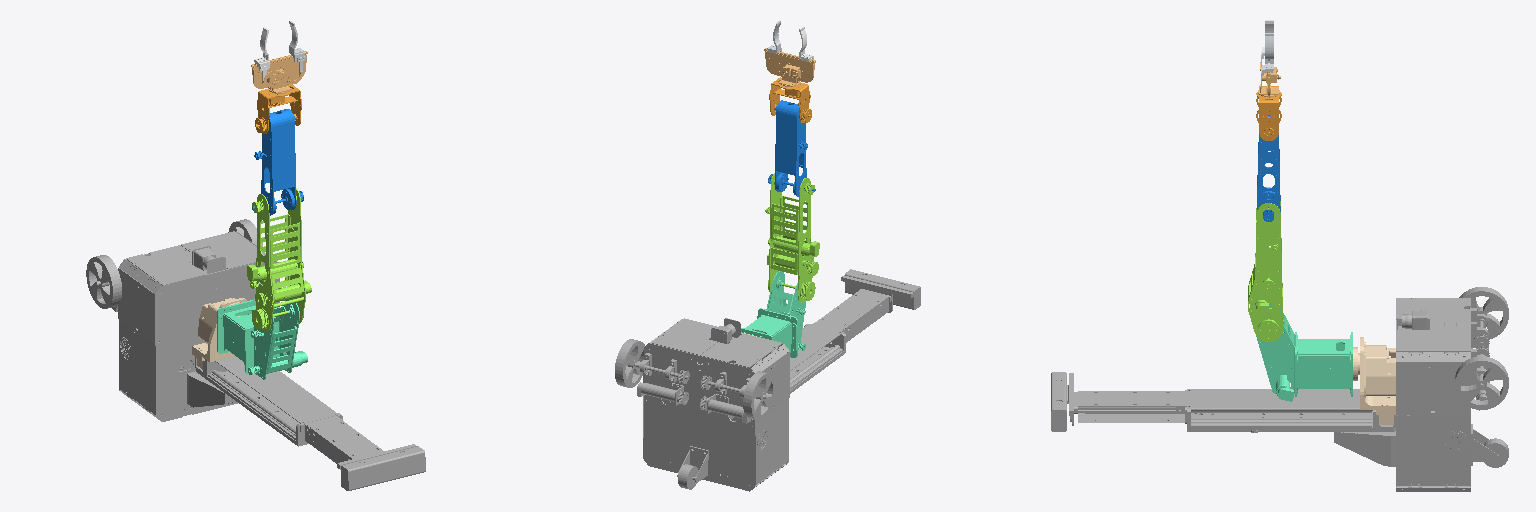
robot.urdf — XM:
<?xml version="1.0" ?>
<robot
  name="XM">
  <link
    name="base_link">
    <inertial>
      <origin
        xyz="-0.0018926 -0.038457 -0.021634"
        rpy="0 0 0" />
      <mass
        value="20.64" />
      <inertia
        ixx="2.1701"
        ixy="-0.0041401"
        ixz="-0.00026473"
        iyy="0.43845"
        iyz="0.12519"
        izz="2.1677" />
    </inertial>
    <visual>
      <origin
        xyz="0 0 0"
        rpy="0 0 0" />
      <geometry>
        <mesh
          filename="package://XM/meshes/base_link.STL" />
      </geometry>
      <material
        name="">
        <color
          rgba="0.75294 0.75294 0.75294 1" />
      </material>
    </visual>
    <collision>
      <origin
        xyz="0 0 0"
        rpy="0 0 0" />
      <geometry>
        <mesh
          filename="package://XM/meshes/base_link.STL" />
      </geometry>
    </collision>
  </link>
  <link
    name="lifting_Link">
    <inertial>
      <origin
        xyz="-2.034E-10 -0.044467 0.074678"
        rpy="0 0 0" />
      <mass
        value="4.139" />
      <inertia
        ixx="0.023514"
        ixy="-2.476E-11"
        ixz="-6.8567E-11"
        iyy="0.020683"
        iyz="-0.0074192"
        izz="0.017083" />
    </inertial>
    <visual>
      <origin
        xyz="0 0 0"
        rpy="0 0 0" />
      <geometry>
        <mesh
          filename="package://XM/meshes/lifting_Link.STL" />
      </geometry>
      <material
        name="">
        <color
          rgba="1 0.91765 0.8 1" />
      </material>
    </visual>
    <collision>
      <origin
        xyz="0 0 0"
        rpy="0 0 0" />
      <geometry>
        <mesh
          filename="package://XM/meshes/lifting_Link.STL" />
      </geometry>
    </collision>
  </link>
  <joint
    name="joint_lifting"
    type="prismatic">
    <origin
      xyz="0.00028281 -0.25402 -0.043734"
      rpy="3.6317E-26 -0.0064665 3.904E-40" />
    <parent
      link="base_link" />
    <child
      link="lifting_Link" />
    <axis
      xyz="0 1 0" />
    <limit
      lower="0.05"
      upper="0.45"
      effort="0"
      velocity="0" />
  </joint>
  <link
    name="waist_Link">
    <inertial>
      <origin
        xyz="0.0020934 -0.02078 0.0092904"
        rpy="0 0 0" />
      <mass
        value="1.8049" />
      <inertia
        ixx="0.015768"
        ixy="-0.0002136"
        ixz="-0.00036488"
        iyy="0.0079986"
        iyz="-0.0018608"
        izz="0.014015" />
    </inertial>
    <visual>
      <origin
        xyz="0 0 0"
        rpy="0 0 0" />
      <geometry>
        <mesh
          filename="package://XM/meshes/waist_Link.STL" />
      </geometry>
      <material
        name="">
        <color
          rgba="0.5 1 0.8 1" />
      </material>
    </visual>
    <collision>
      <origin
        xyz="0 0 0"
        rpy="0 0 0" />
      <geometry>
        <mesh
          filename="package://XM/meshes/waist_Link.STL" />
      </geometry>
    </collision>
  </link>
  <joint
    name="joint_waist"
    type="revolute">
    <origin
      xyz="0 -0.2218 0.136"
      rpy="-2.8496E-16 -1.075E-14 7.3949E-16" />
    <parent
      link="lifting_Link" />
    <child
      link="waist_Link" />
    <axis
      xyz="0 1 0" />
    <limit
      lower="-1.57"
      upper="1.57"
      effort="0"
      velocity="0" />
  </joint>
  <link
    name="big_arm_Link">
    <inertial>
      <origin
        xyz="0.00048507 -0.0037941 0.12763"
        rpy="0 0 0" />
      <mass
        value="1.3414" />
      <inertia
        ixx="0.014476"
        ixy="1.4256E-05"
        ixz="-8.8774E-05"
        iyy="0.017027"
        iyz="0.00033307"
        izz="0.0040217" />
    </inertial>
    <visual>
      <origin
        xyz="0 0 0"
        rpy="0 0 0" />
      <geometry>
        <mesh
          filename="package://XM/meshes/big_arm_Link.STL" />
      </geometry>
      <material
        name="">
        <color
          rgba="0.7 1 0.4 1" />
      </material>
    </visual>
    <collision>
      <origin
        xyz="0 0 0"
        rpy="0 0 0" />
      <geometry>
        <mesh
          filename="package://XM/meshes/big_arm_Link.STL" />
      </geometry>
    </collision>
  </link>
  <joint
    name="joinr_big_arm"
    type="revolute">
    <origin
      xyz="0 -0.12547 0.13033"
      rpy="0 7.9736E-15 4.2111E-33" />
    <parent
      link="waist_Link" />
    <child
      link="big_arm_Link" />
    <axis
      xyz="1 0 0" />
    <limit
      lower="-1.57"
      upper="1.57"
      effort="0"
      velocity="0" />
  </joint>
  <link
    name="fore_arm_Link">
    <inertial>
      <origin
        xyz="0.00031488 0.00077015 0.082927"
        rpy="0 0 0" />
      <mass
        value="0.66536" />
      <inertia
        ixx="0.0062497"
        ixy="-1.6576E-05"
        ixz="-0.00025384"
        iyy="0.0069348"
        iyz="4.5771E-05"
        izz="0.0010978" />
    </inertial>
    <visual>
      <origin
        xyz="0 0 0"
        rpy="0 0 0" />
      <geometry>
        <mesh
          filename="package://XM/meshes/fore_arm_Link.STL" />
      </geometry>
      <material
        name="">
        <color
          rgba="0.2 0.61961 1 1" />
      </material>
    </visual>
    <collision>
      <origin
        xyz="0 0 0"
        rpy="0 0 0" />
      <geometry>
        <mesh
          filename="package://XM/meshes/fore_arm_Link.STL" />
      </geometry>
    </collision>
  </link>
  <joint
    name="joint_fore_arm"
    type="revolute">
    <origin
      xyz="0 0 0.35"
      rpy="0 1.2212E-15 -4.2209E-32" />
    <parent
      link="big_arm_Link" />
    <child
      link="fore_arm_Link" />
    <axis
      xyz="-1 0 0" />
    <limit
      lower="-1.57"
      upper="1.57"
      effort="0"
      velocity="0" />
  </joint>
  <link
    name="wrist_Link">
    <inertial>
      <origin
        xyz="-0.0016964 -1.8874E-15 0.03193"
        rpy="0 0 0" />
      <mass
        value="0.21596" />
      <inertia
        ixx="0.00030788"
        ixy="7.5664E-18"
        ixz="8.084E-06"
        iyy="0.00068067"
        iyz="1.728E-17"
        izz="0.00041975" />
    </inertial>
    <visual>
      <origin
        xyz="0 0 0"
        rpy="0 0 0" />
      <geometry>
        <mesh
          filename="package://XM/meshes/wrist_Link.STL" />
      </geometry>
      <material
        name="">
        <color
          rgba="1 0.7 0.3 1" />
      </material>
    </visual>
    <collision>
      <origin
        xyz="0 0 0"
        rpy="0 0 0" />
      <geometry>
        <mesh
          filename="package://XM/meshes/wrist_Link.STL" />
      </geometry>
    </collision>
  </link>
  <joint
    name="joint_wrist"
    type="revolute">
    <origin
      xyz="0 0.0010002 0.25"
      rpy="0 0 -4.2209E-32" />
    <parent
      link="fore_arm_Link" />
    <child
      link="wrist_Link" />
    <axis
      xyz="1 0 0" />
    <limit
      lower="-1.57"
      upper="1.57"
      effort="0"
      velocity="0" />
  </joint>
  <link
    name="fore_joint_Link">
    <inertial>
      <origin
        xyz="-0.0037211 0.00074906 0.046928"
        rpy="0 0 0" />
      <mass
        value="0.36527" />
      <inertia
        ixx="0.00032887"
        ixy="-7.465E-06"
        ixz="-1.0886E-05"
        iyy="0.00072728"
        iyz="8.5383E-07"
        izz="0.0004828" />
    </inertial>
    <visual>
      <origin
        xyz="0 0 0"
        rpy="0 0 0" />
      <geometry>
        <mesh
          filename="package://XM/meshes/fore_joint_Link.STL" />
      </geometry>
      <material
        name="">
        <color
          rgba="1 0.8 0.54902 1" />
      </material>
    </visual>
    <collision>
      <origin
        xyz="0 0 0"
        rpy="0 0 0" />
      <geometry>
        <mesh
          filename="package://XM/meshes/fore_joint_Link.STL" />
      </geometry>
    </collision>
  </link>
  <joint
    name="fore_joint"
    type="revolute">
    <origin
      xyz="0.0044 0 0.093"
      rpy="0 -1.1102E-15 3.5848E-32" />
    <parent
      link="wrist_Link" />
    <child
      link="fore_joint_Link" />
    <axis
      xyz="0 0 1" />
    <limit
      lower="-1.57"
      upper="1.57"
      effort="0"
      velocity="0" />
  </joint>
  <link
    name="right_finger_Link">
    <inertial>
      <origin
        xyz="0.009058 -0.0045005 0.0073292"
        rpy="0 0 0" />
      <mass
        value="0.030707" />
      <inertia
        ixx="4.538E-05"
        ixy="-8.9082E-07"
        ixz="-5.2065E-06"
        iyy="4.4551E-05"
        iyz="6.4561E-06"
        izz="5.8119E-06" />
    </inertial>
    <visual>
      <origin
        xyz="0 0 0"
        rpy="0 0 0" />
      <geometry>
        <mesh
          filename="package://XM/meshes/right_finger_Link.STL" />
      </geometry>
      <material
        name="">
        <color
          rgba="0.89804 0.91765 0.92941 1" />
      </material>
    </visual>
    <collision>
      <origin
        xyz="0 0 0"
        rpy="0 0 0" />
      <geometry>
        <mesh
          filename="package://XM/meshes/right_finger_Link.STL" />
      </geometry>
    </collision>
  </link>
  <joint
    name="joint_right_finger"
    type="prismatic">
    <origin
      xyz="0.044912 -0.0015 0.11"
      rpy="2.8496E-16 -8.0846E-15 -6.3892E-16" />
    <parent
      link="fore_joint_Link" />
    <child
      link="right_finger_Link" />
    <axis
      xyz="-1 0 0" />
    <limit
      lower="-0.045"
      upper="0"
      effort="0"
      velocity="0" />
  </joint>
  <link
    name="left_finger_Link">
    <inertial>
      <origin
        xyz="-0.009058 -0.0045008 0.0073292"
        rpy="0 0 0" />
      <mass
        value="0.030707" />
      <inertia
        ixx="4.538E-05"
        ixy="8.9056E-07"
        ixz="5.2065E-06"
        iyy="4.4551E-05"
        iyz="6.456E-06"
        izz="5.8118E-06" />
    </inertial>
    <visual>
      <origin
        xyz="0 0 0"
        rpy="0 0 0" />
      <geometry>
        <mesh
          filename="package://XM/meshes/left_finger_Link.STL" />
      </geometry>
      <material
        name="">
        <color
          rgba="1 1 1 1" />
      </material>
    </visual>
    <collision>
      <origin
        xyz="0 0 0"
        rpy="0 0 0" />
      <geometry>
        <mesh
          filename="package://XM/meshes/left_finger_Link.STL" />
      </geometry>
    </collision>
  </link>
  <joint
    name="joint_left_finger"
    type="prismatic">
    <origin
      xyz="-0.044912 -0.0015 0.11"
      rpy="5.0701E-16 -8.0569E-15 -6.1702E-16" />
    <parent
      link="fore_joint_Link" />
    <child
      link="left_finger_Link" />
    <axis
      xyz="-1 0 0" />
    <limit
      lower="0"
      upper="0.045"
      effort="0"
      velocity="0" />
  </joint>
</robot>

--- What the picture shows (computed from the rendered views, not written in the file) ---
Views: 3 orthographic renders of the robot side by side, from view 1: azimuth 30°, elevation 25°; view 2: azimuth 150°, elevation 25°; view 3: azimuth 270°, elevation 25°.
Robot: XM — 9 links, 8 joints (5 revolute, 3 prismatic); root link base_link; default pose: joints at zero except 1 at the middle of their limits (joint_lifting = 0.25).
Visible links, largest first — view 1: base_link, big_arm_Link, waist_Link, fore_arm_Link, lifting_Link, fore_joint_Link, wrist_Link; view 2: base_link, big_arm_Link, waist_Link, fore_arm_Link, fore_joint_Link, wrist_Link; view 3: base_link, waist_Link, big_arm_Link, lifting_Link, fore_arm_Link, wrist_Link.
Boxes of the visible links, x1,y1,x2,y2 form: base_link: (86, 219, 425, 490); big_arm_Link: (247, 188, 311, 331); waist_Link: (217, 299, 307, 379); fore_arm_Link: (252, 109, 303, 215); lifting_Link: (190, 298, 246, 369); fore_joint_Link: (251, 51, 307, 93); wrist_Link: (255, 84, 301, 133); base_link: (615, 269, 920, 491); big_arm_Link: (765, 173, 819, 302); waist_Link: (741, 271, 806, 357); fore_arm_Link: (768, 100, 815, 196); fore_joint_Link: (764, 48, 815, 86); wrist_Link: (769, 77, 811, 122); base_link: (1051, 287, 1508, 491); waist_Link: (1256, 304, 1352, 401); big_arm_Link: (1248, 187, 1282, 341); lifting_Link: (1353, 337, 1409, 424); fore_arm_Link: (1257, 115, 1280, 221); wrist_Link: (1256, 86, 1281, 140).
Size in the robot's own frame: 0.5121 by 1.26 by 1.33 metres.
9 mesh visuals loaded from 9 distinct referenced files (9 binary STL).
